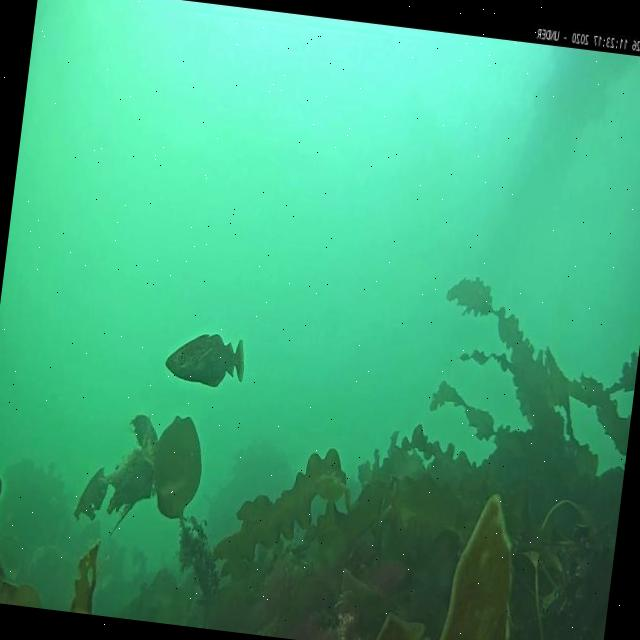fish: (164, 328, 247, 388)
